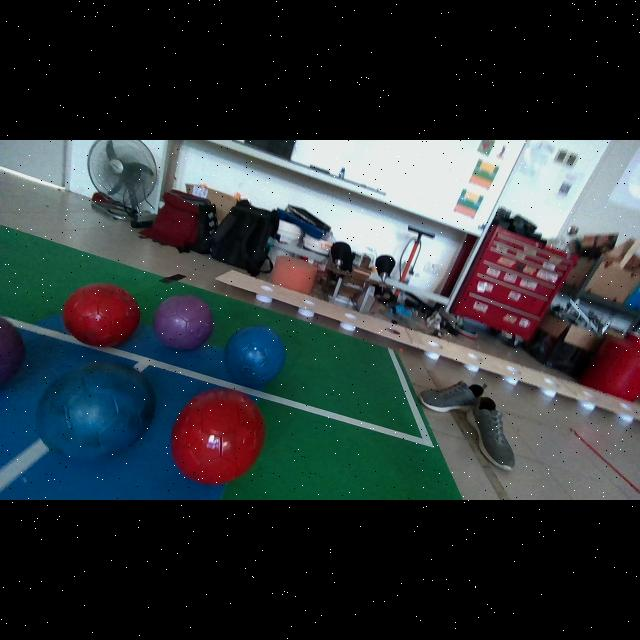B: (36, 361, 156, 460), (225, 325, 286, 388)
P: (152, 296, 214, 350)
R: (171, 389, 265, 485), (62, 284, 140, 346)
